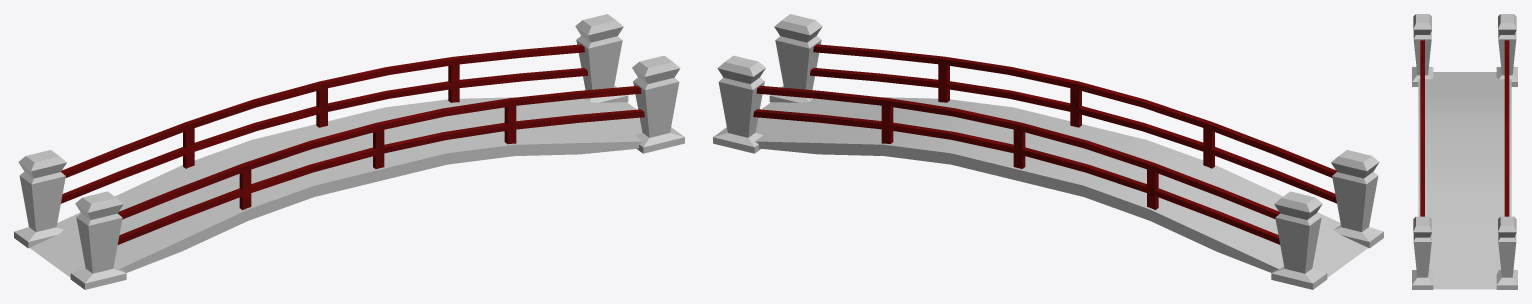
Rendered from smallBridge01.FBX.
The picture shows the model from 3 angles, left to right: view 1: azimuth 30°, elevation 25°; view 2: azimuth 150°, elevation 25°; view 3: azimuth 270°, elevation 25°; orthographic projection. The views are drawn at different scales.
Visible parts, largest first — view 1: Box004; view 2: Box004; view 3: Box004.
Part boxes in pixels (<box>): Box004: <box>14,14,684,289</box>; Box004: <box>713,14,1383,289</box>; Box004: <box>1412,14,1517,289</box>.
Size of the model in its own units: 332 by 46.34 by 67.96.
